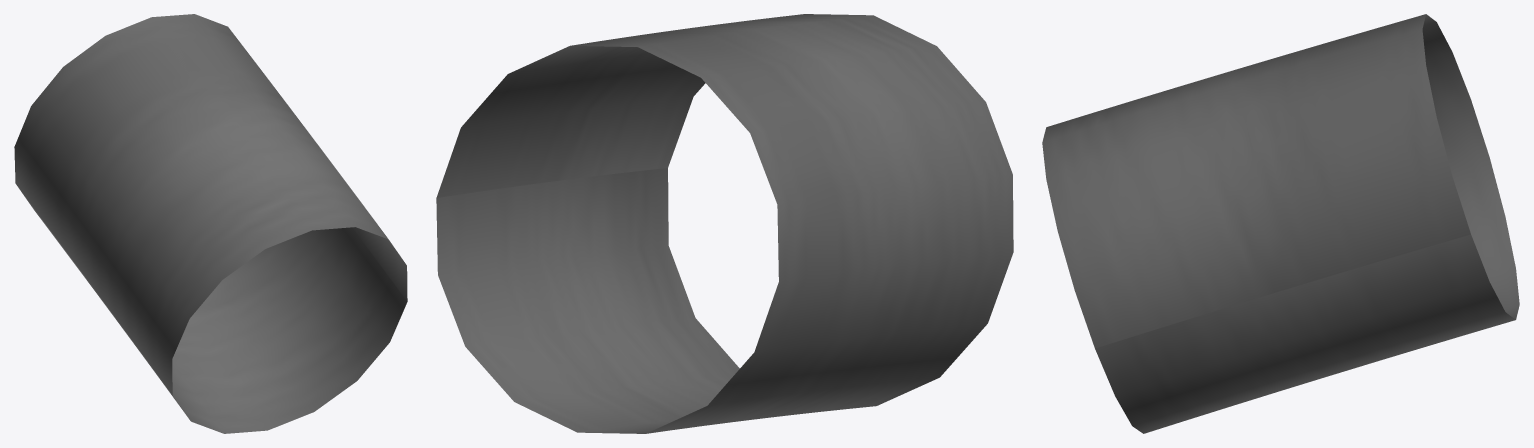
Rendered from mastarmcurve_10x2_c2.obj.
3 renders of one model, left to right at view 1: azimuth 30°, elevation 25°; view 2: azimuth 150°, elevation 25°; view 3: azimuth 270°, elevation 25°, orthographic. The views are drawn at different scales.
Visible parts, largest first — view 1: mastarm_10x2_c2; view 2: mastarm_10x2_c2; view 3: mastarm_10x2_c2.
Boxes of the visible parts, x1,y1,x2,y2 form: mastarm_10x2_c2: (14, 14, 407, 433); mastarm_10x2_c2: (436, 14, 1013, 433); mastarm_10x2_c2: (1042, 14, 1519, 433).
Bounding box in the file's own units: 0.565 × 0.7536 × 0.8381.
